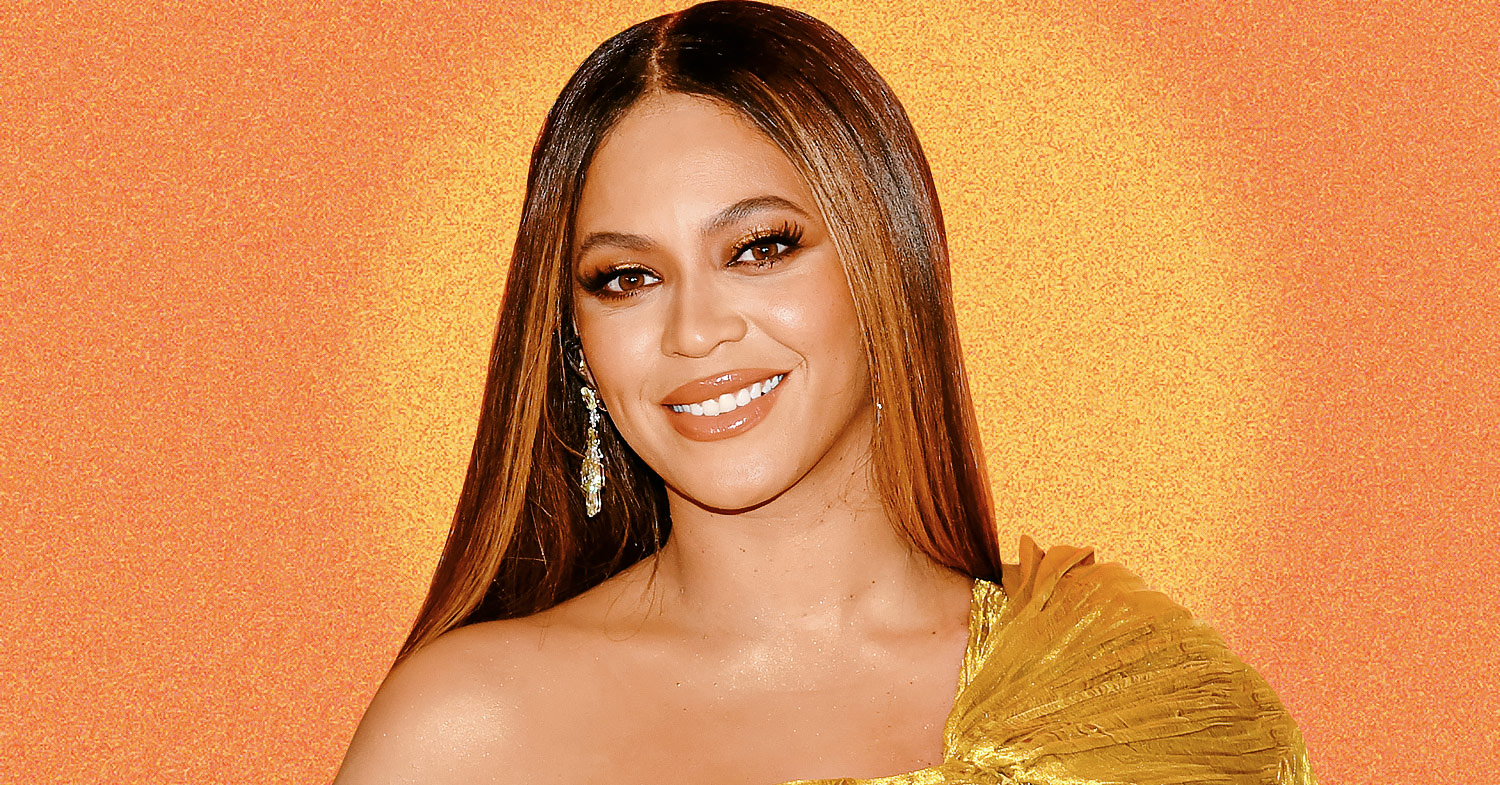person: (494, 2, 960, 569)
